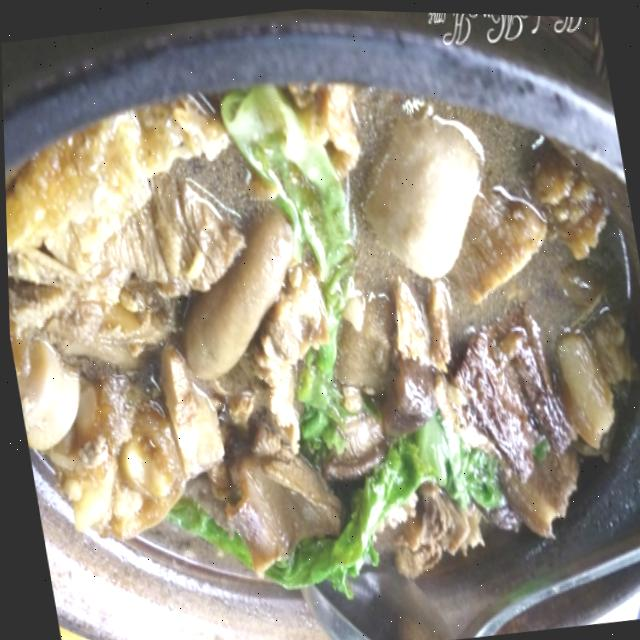汤锅炖物: (0, 8, 640, 640)
